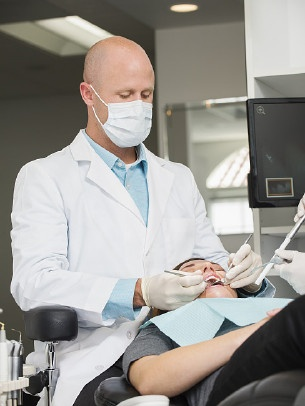Mask: (91, 79, 161, 149)
